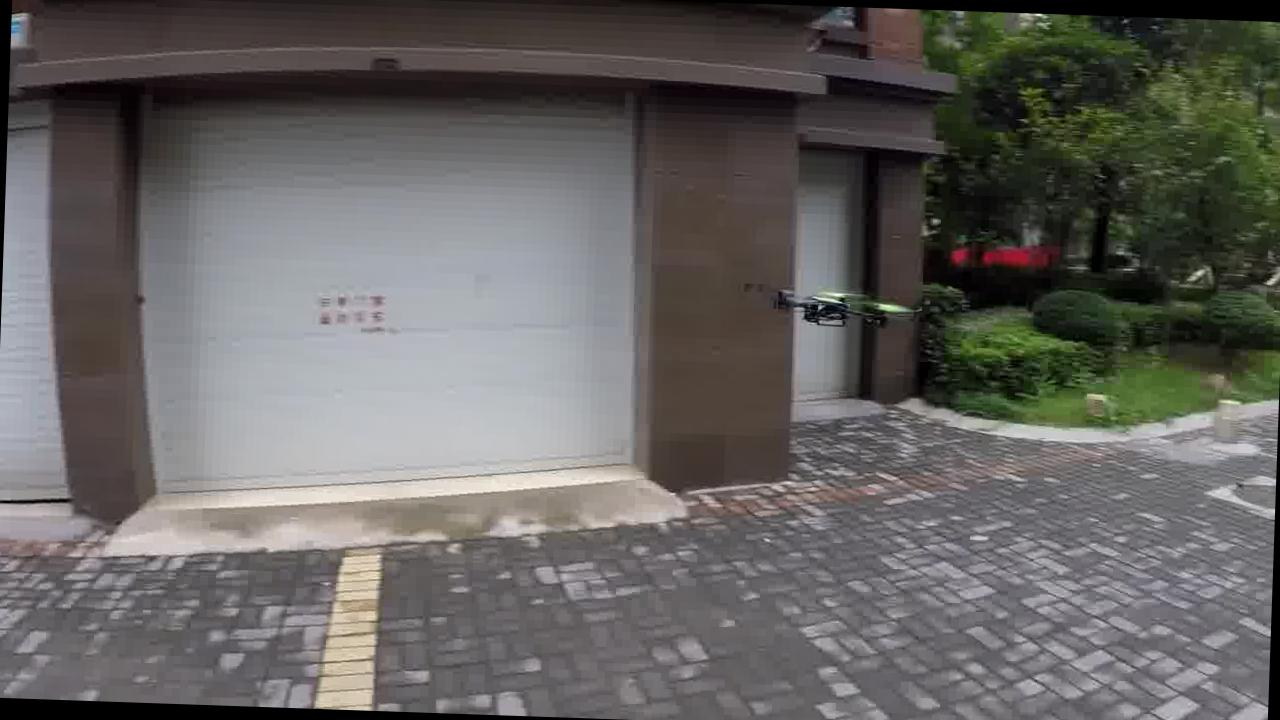drone: (725, 271, 914, 339)
